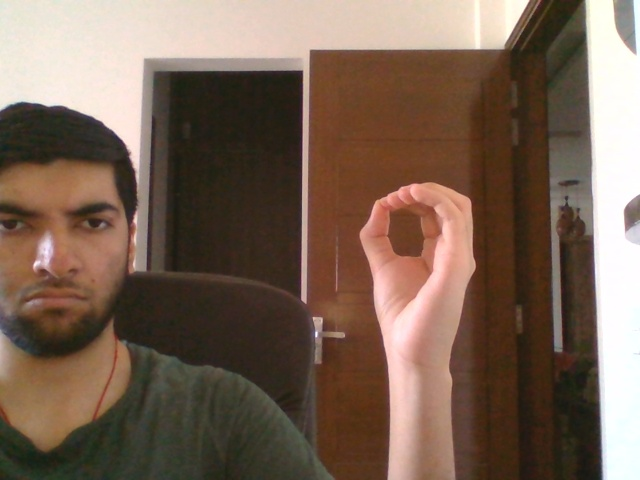LetterO: (358, 180, 478, 362)
